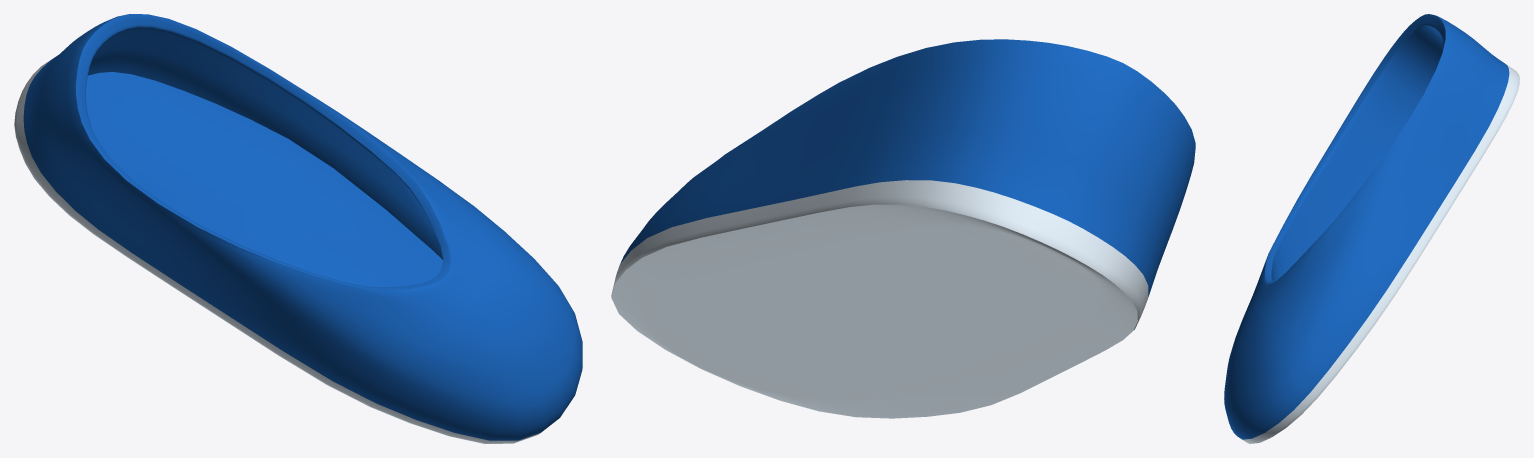
Rendered from flat_shoe.glb.
3 renders of one model, left to right at view 1: azimuth 30°, elevation 25°; view 2: azimuth 150°, elevation 25°; view 3: azimuth 270°, elevation 25°, orthographic. The views are drawn at different scales.
Parts seen in each view (by area): view 1: Sphere.368; view 2: Sphere.368; view 3: Sphere.368.
Boxes of the visible parts, box(x1,y1,x2,y2) form: Sphere.368: box(14, 14, 582, 443); Sphere.368: box(611, 39, 1195, 418); Sphere.368: box(1224, 14, 1519, 443).
Size of the model in its own units: 2.13 by 1.84 by 1.6.
Materials: 1 (1 with a texture image).
